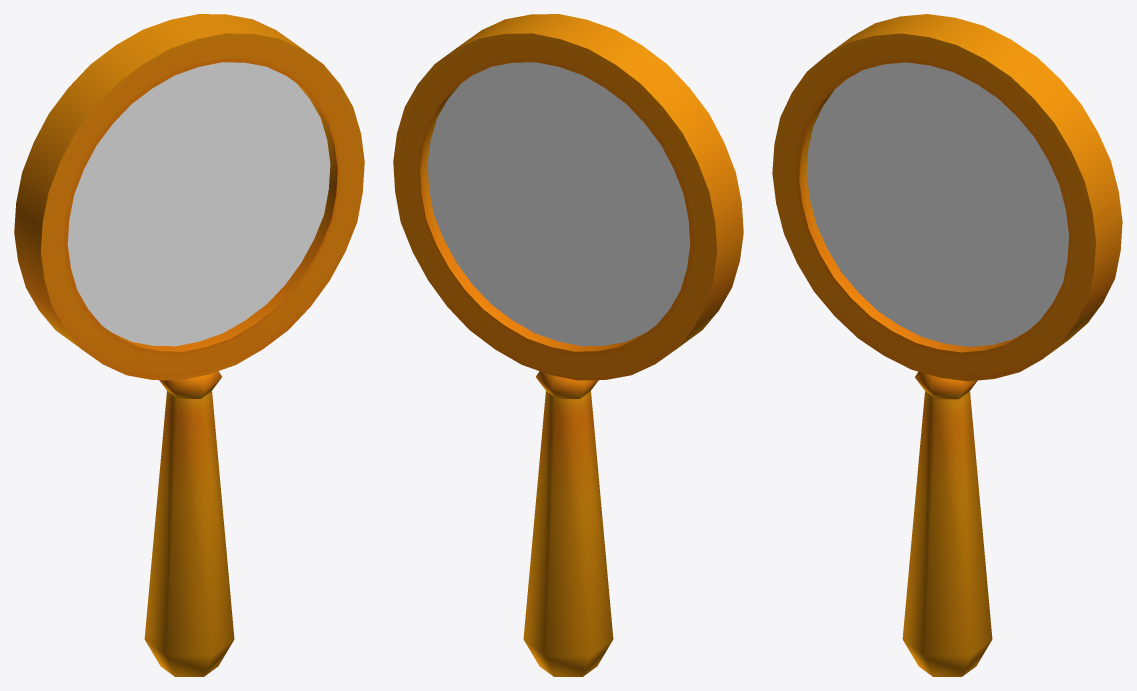
File: Wealth_ng_magnifier.fbx
3 views of the same model, side by side, from view 1: azimuth 30°, elevation 25°; view 2: azimuth 150°, elevation 25°; view 3: azimuth 330°, elevation 25° (orthographic).
Visible parts, largest first — view 1: Wealth_ng_magnifier; view 2: Wealth_ng_magnifier; view 3: Wealth_ng_magnifier.
Part boxes in pixels (x1,y1,x2,y2): Wealth_ng_magnifier: [14, 14, 364, 676]; Wealth_ng_magnifier: [393, 14, 743, 676]; Wealth_ng_magnifier: [772, 14, 1122, 676].
Size of the model in its own units: 25.79 by 49.35 by 6.2.
